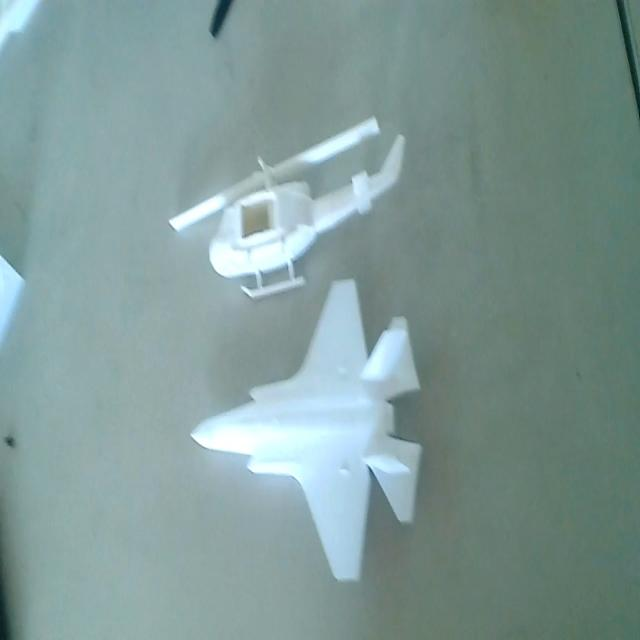Helicopter: (154, 110, 406, 301)
Jet: (182, 274, 424, 580)
